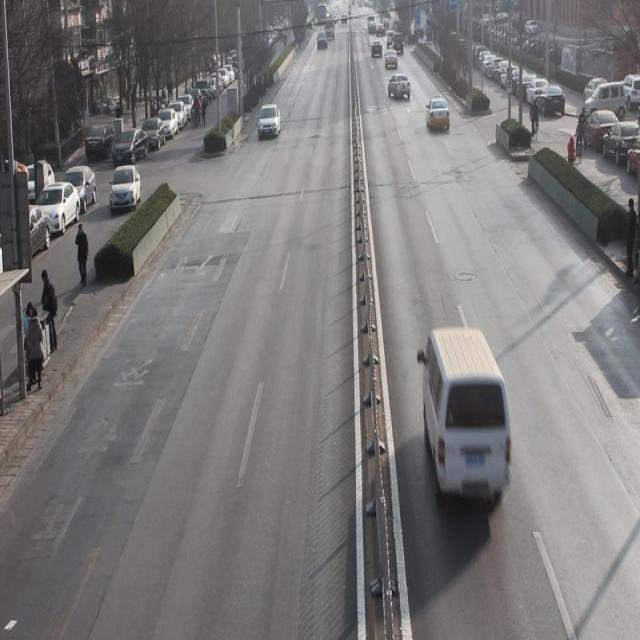car: (258, 100, 282, 138), (426, 100, 452, 132), (388, 77, 412, 106), (385, 45, 400, 71)
truck: (419, 325, 516, 516)
